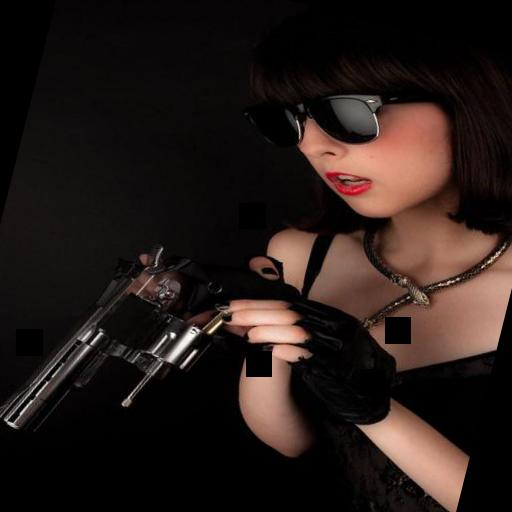Handgun: (0, 201, 268, 486)
